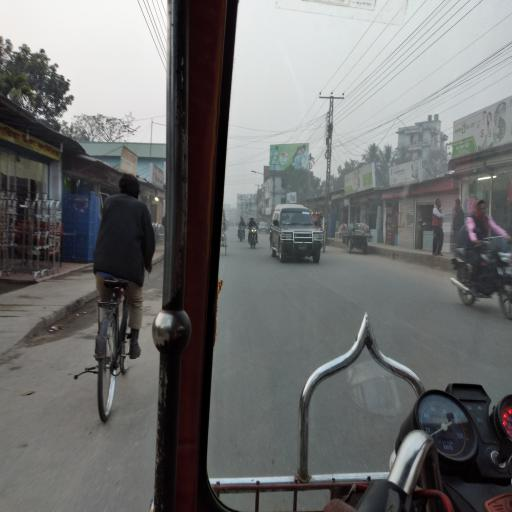bicycle: (80, 265, 146, 428)
car: (258, 223, 270, 235)
motorbike: (447, 231, 512, 326), (248, 217, 260, 251), (237, 216, 247, 243)
rickshaw: (310, 210, 328, 259)
suv: (270, 204, 323, 264)
